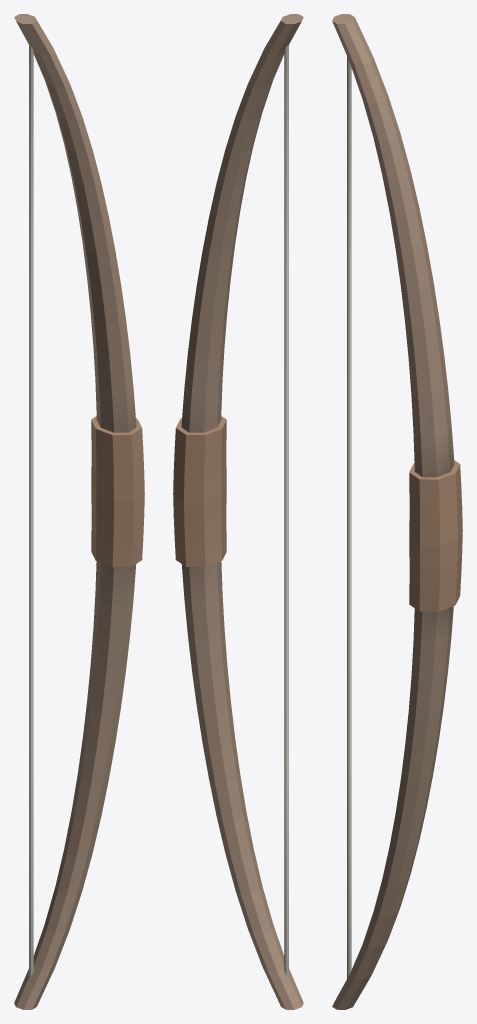
The model's file is bow.glb.
3 views of the same model, side by side, from view 1: azimuth 30°, elevation 25°; view 2: azimuth 150°, elevation 25°; view 3: azimuth 330°, elevation 25° (orthographic).
Visible parts, largest first — view 1: grip; view 2: grip; view 3: grip.
Part boxes in pixels (box(x1,y1,x2,y2)): grip: box(14, 14, 144, 1009); grip: box(173, 14, 303, 1009); grip: box(332, 14, 462, 1009).
Bounding box in the file's own units: 0.1472 × 1.12 × 0.066.
